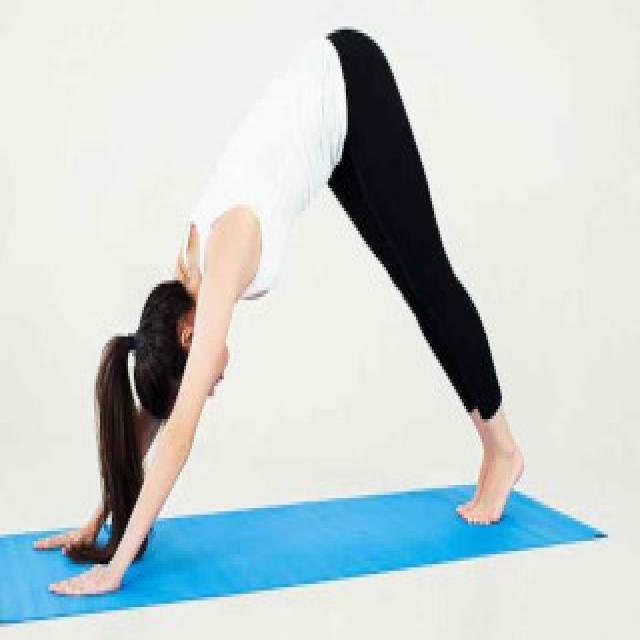yoga-pose downward: (45, 34, 526, 592)
